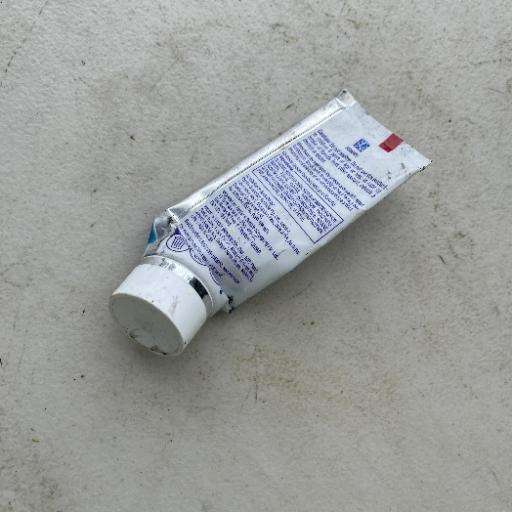Plastic: (105, 87, 433, 361)
